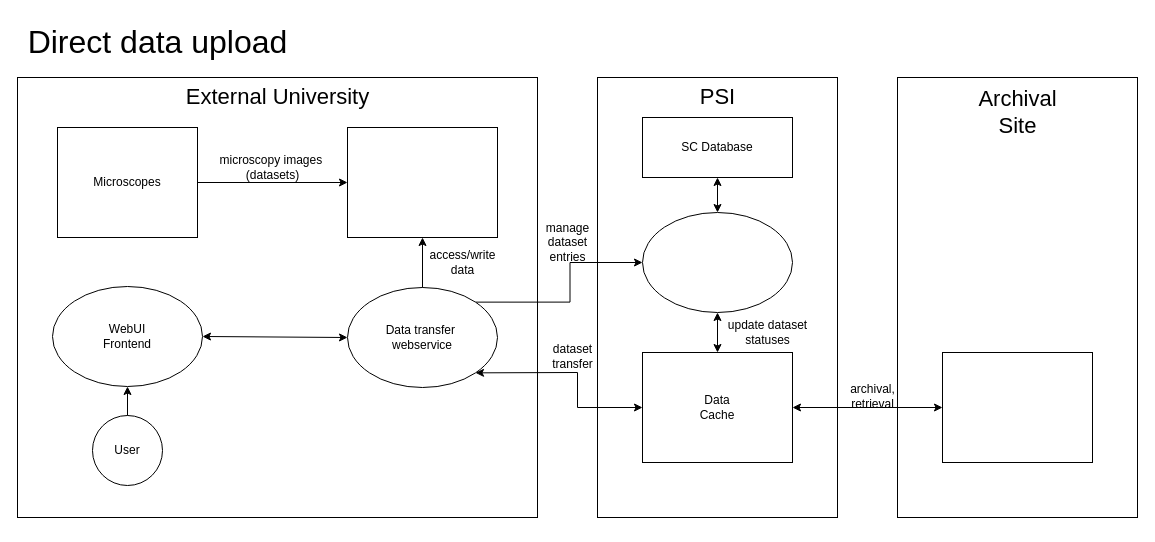
Some shapes in this 1155 by 542 pixel diagram are drawn without their labels. The centre of each missing label's shape, as x and y in pixels:
Data Storage: point (422, 182)
SciCat Backend: point (717, 262)
Tape storage: point (1017, 407)
